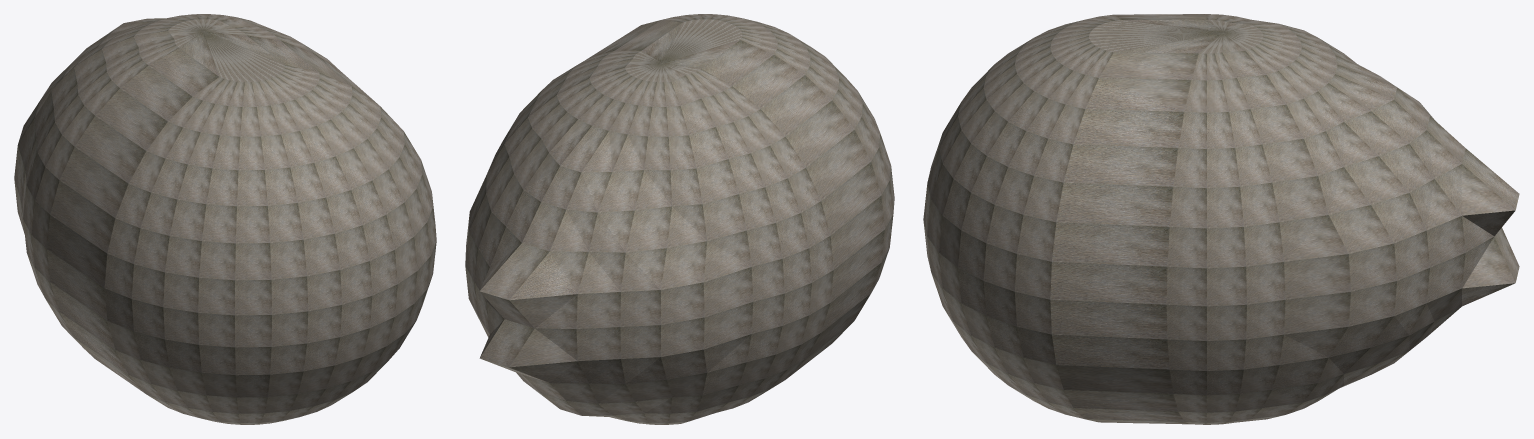
The model's file is waterwheelseed.dae.
3 renders of one model, left to right at view 1: azimuth 30°, elevation 25°; view 2: azimuth 150°, elevation 25°; view 3: azimuth 270°, elevation 25°, orthographic. The views are drawn at different scales.
Visible parts, largest first — view 1: Sphere; view 2: Sphere; view 3: Sphere.
Boxes of the visible parts, x1=… form: Sphere: x1=14, y1=14, x2=436, y2=424; Sphere: x1=465, y1=14, x2=894, y2=424; Sphere: x1=923, y1=14, x2=1519, y2=424.
Size of the model in its own units: 2 by 2.9 by 2.
Materials: 1 (1 with a texture image).
